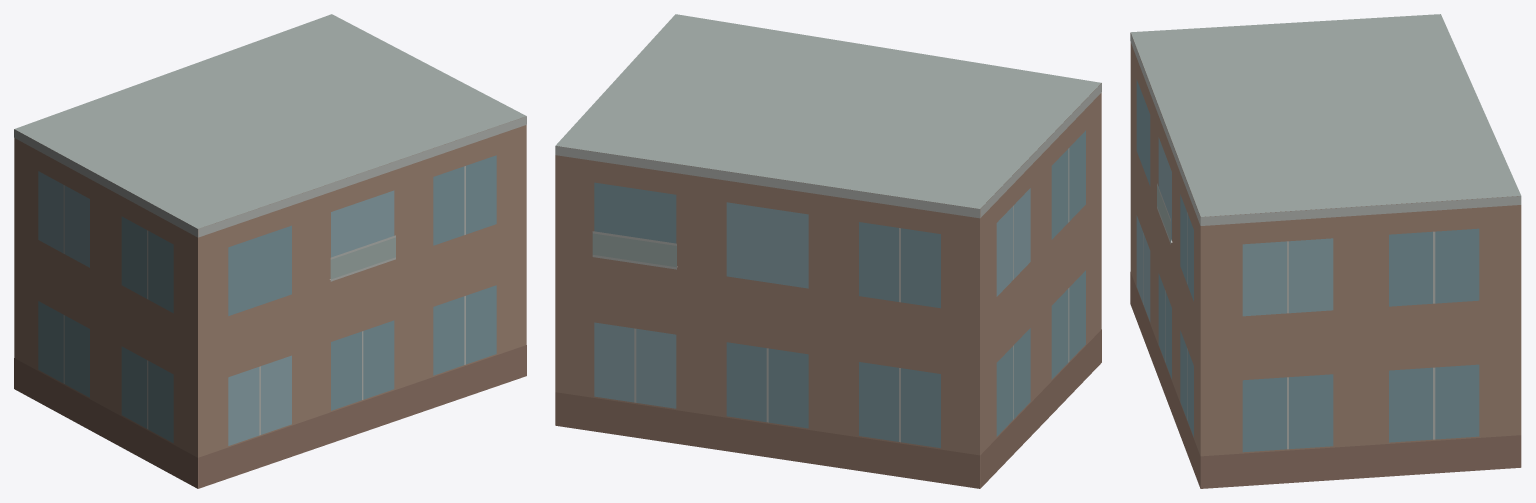
Rendered from survey-upis-32574316.glb.
3 views of the same model, side by side, from view 1: azimuth 30°, elevation 25°; view 2: azimuth 150°, elevation 25°; view 3: azimuth 270°, elevation 25° (orthographic). The views are drawn at different scales.
Visible parts, largest first — view 1: survey-upis-32574316.tmp; view 2: survey-upis-32574316.tmp; view 3: survey-upis-32574316.tmp.
Part boxes in pixels (box(x1,y1,x2,y2)): survey-upis-32574316.tmp: box(14, 14, 526, 488); survey-upis-32574316.tmp: box(555, 14, 1101, 488); survey-upis-32574316.tmp: box(1130, 14, 1521, 488).
Size of the model in its own units: 11.7 by 7.3 by 9.52.
